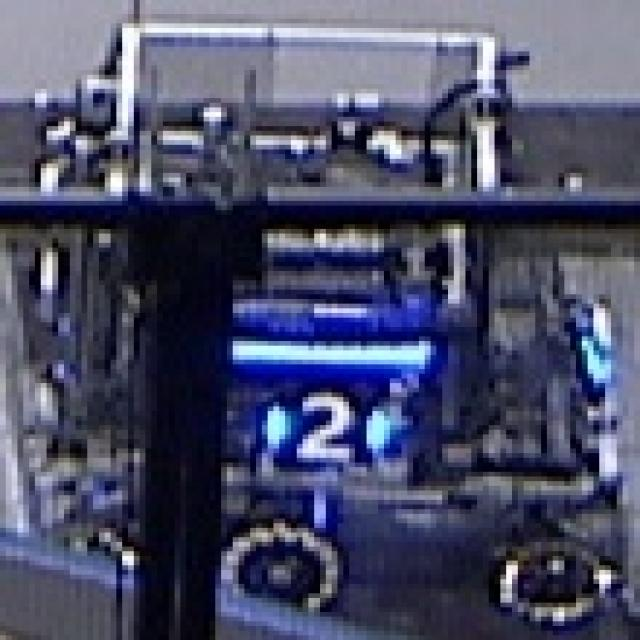B2: (250, 386, 407, 470)
